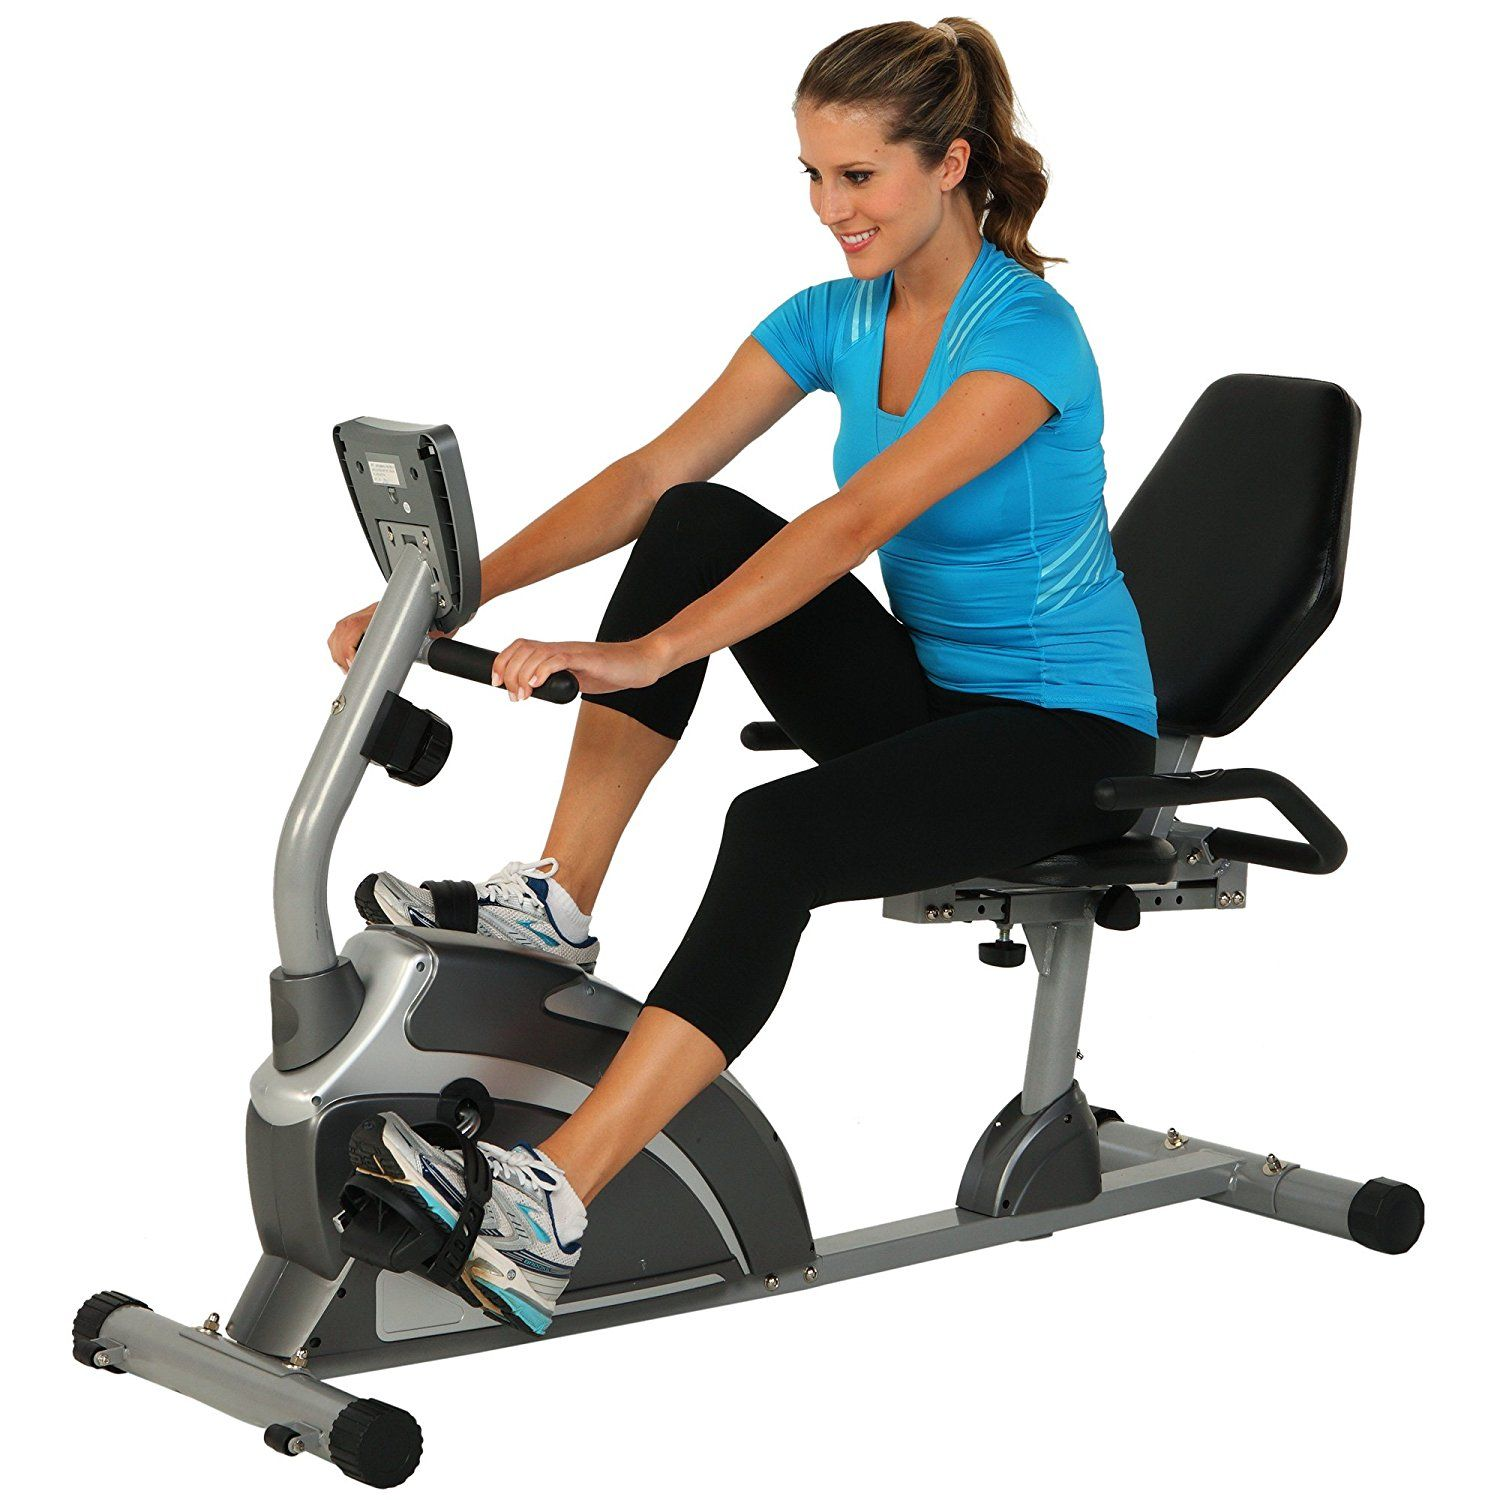gym_bike: (122, 363, 1444, 1451)
